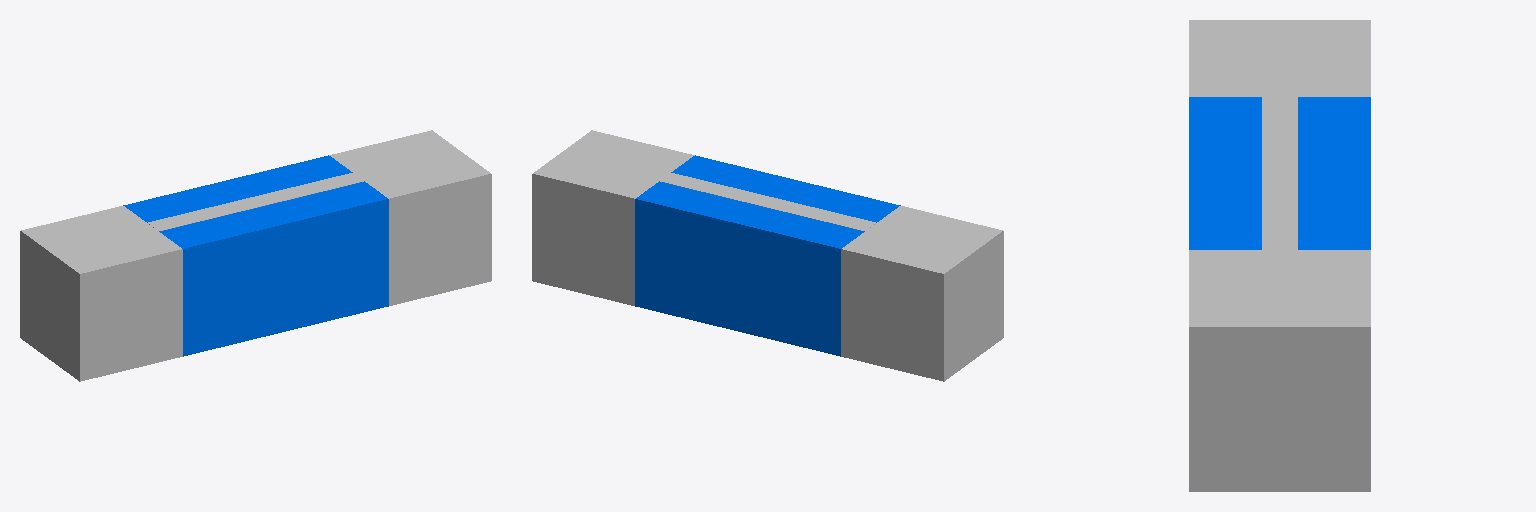
The robot description file, URDF, robot "snap_connector_2":
<?xml version="1.0"?>
<robot name="snap_connector_2">
    <!-- Middle plastic link is listed first as the 'base' reference link -->

        <link name="middle_plastic">
          <visual>
            <origin xyz="0 0 0" rpy="0 0 0" />
            <geometry>
              <box size="0.1 0.05 0.05" />
            </geometry>
            <material name="middle_plastic_material">
              <color rgba="0.0 0.5 1.0 1.0"/>
            </material>
          </visual>
          <collision>
            <origin xyz="0 0 0" rpy="0 0 0" />
            <geometry>
              <box size="0.1 0.05 0.05" />
            </geometry>
          </collision>
        </link>



        <link name="start_metal">
          <visual>
            <origin xyz="0 0 0" rpy="0 0 0" />
            <geometry>
              <box size="0.05 0.05 0.05" />
            </geometry>
            <material name="start_metal_material">
              <color rgba="0.8 0.8 0.8 1.0"/>
            </material>
          </visual>
          <collision>
            <origin xyz="0 0 0" rpy="0 0 0" />
            <geometry>
              <box size="0.05 0.05 0.05" />
            </geometry>
          </collision>
        </link>


        <link name="end_metal">
          <visual>
            <origin xyz="0 0 0" rpy="0 0 0" />
            <geometry>
              <box size="0.05 0.05 0.05" />
            </geometry>
            <material name="end_metal_material">
              <color rgba="0.8 0.8 0.8 1.0"/>
            </material>
          </visual>
          <collision>
            <origin xyz="0 0 0" rpy="0 0 0" />
            <geometry>
              <box size="0.05 0.05 0.05" />
            </geometry>
          </collision>
        </link>


        <link name="line">
          <visual>
            <origin xyz="0 0 0" rpy="0 0 0" />
            <geometry>
              <box size="0.1 0.01 0.0001" />
            </geometry>
            <material name="line_material">
              <color rgba="0.8 0.8 0.8 1.0"/>
            </material>
          </visual>
          <collision>
            <origin xyz="0 0 0" rpy="0 0 0" />
            <geometry>
              <box size="0.1 0.01 0.0001" />
            </geometry>
          </collision>
        </link>


    <!-- Fixed joints -->

        <joint name="start_metal_joint" type="fixed">
          <parent link="middle_plastic"/>
          <child link="start_metal"/>
          <origin xyz="-0.07500000000000001 0 0" rpy="0 0 0"/>
        </joint>


        <joint name="end_metal_joint" type="fixed">
          <parent link="middle_plastic"/>
          <child link="end_metal"/>
          <origin xyz="0.07500000000000001 0 0" rpy="0 0 0"/>
        </joint>


        <joint name="line_joint" type="fixed">
          <parent link="middle_plastic"/>
          <child link="line"/>
          <origin xyz="0 0 0.025050000000000003" rpy="0 0 0"/>
        </joint>

</robot>

--- Facts derived from the render (not from the file) ---
3 views of the same robot in one strip: view 1: azimuth 30°, elevation 25°; view 2: azimuth 150°, elevation 25°; view 3: azimuth 270°, elevation 25° (orthographic).
Robot: snap_connector_2 — 4 links, 3 joints (3 fixed); root link middle_plastic; default pose: all joints at 0.
Visible links, largest first — view 1: middle_plastic, start_metal, end_metal, line; view 2: middle_plastic, start_metal, end_metal, line; view 3: end_metal, middle_plastic, start_metal, line.
Boxes of the visible links, bbox=[...] form: middle_plastic: bbox=[123, 155, 388, 356]; start_metal: bbox=[20, 206, 182, 381]; end_metal: bbox=[329, 130, 491, 305]; line: bbox=[148, 173, 363, 230]; middle_plastic: bbox=[635, 155, 900, 356]; start_metal: bbox=[841, 206, 1003, 381]; end_metal: bbox=[532, 130, 694, 305]; line: bbox=[660, 173, 875, 230]; end_metal: bbox=[1189, 250, 1370, 491]; middle_plastic: bbox=[1189, 97, 1370, 249]; start_metal: bbox=[1189, 20, 1370, 96]; line: bbox=[1262, 97, 1297, 249].
Bounding box of the posed robot: 0.2 × 0.05 × 0.0501 m (x, y, z).
Geometry: primitives only (box / cylinder / sphere), no mesh files.